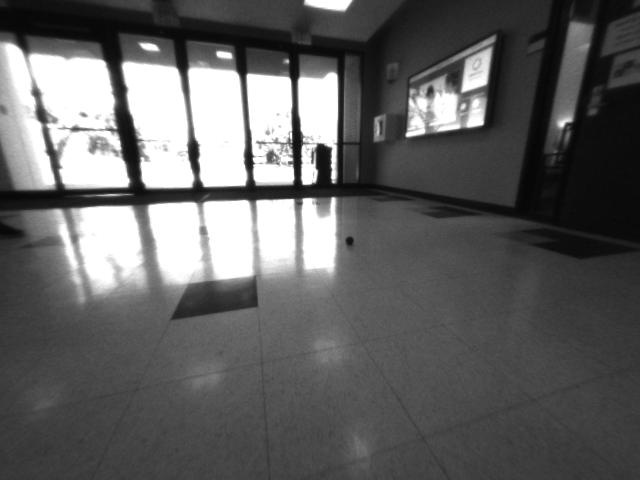dogtoy: (334, 228, 369, 253)
